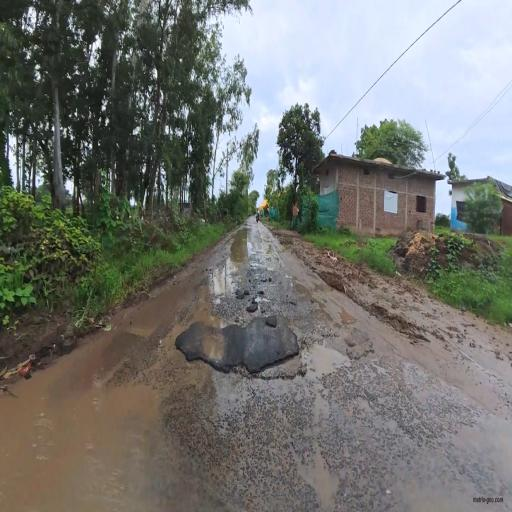ravelling: (172, 250, 371, 496)
